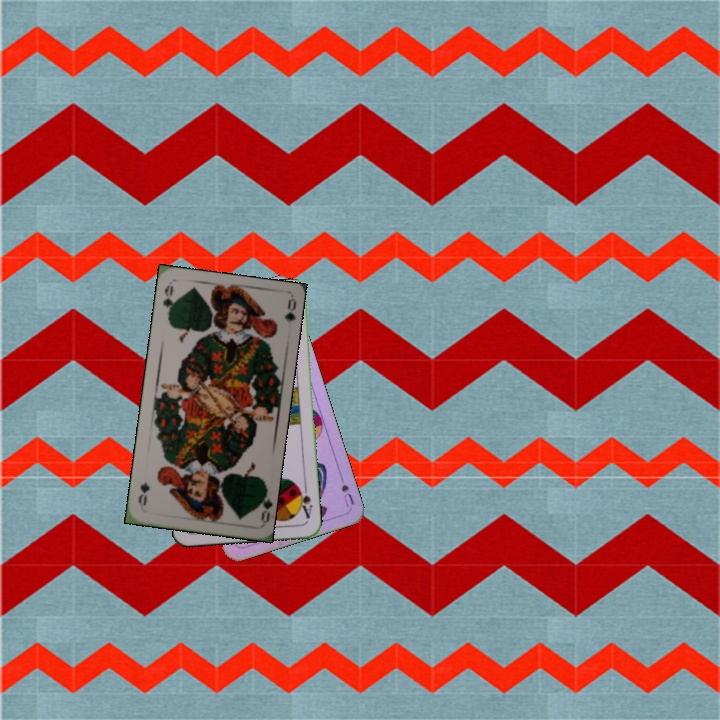GO: (252, 484, 273, 525), (159, 281, 177, 322)
SA: (295, 482, 315, 521)
SU: (335, 470, 357, 509)
